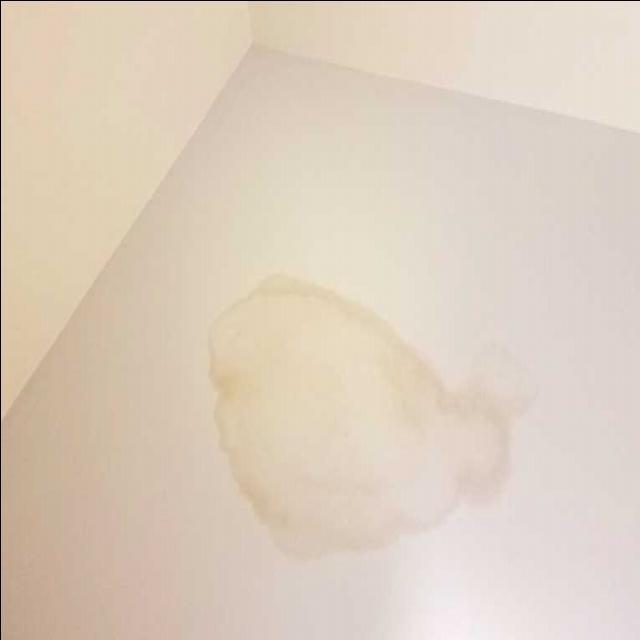leak: (198, 266, 543, 556)
